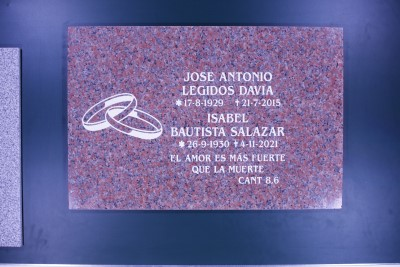lapidas: (67, 25, 342, 209)
